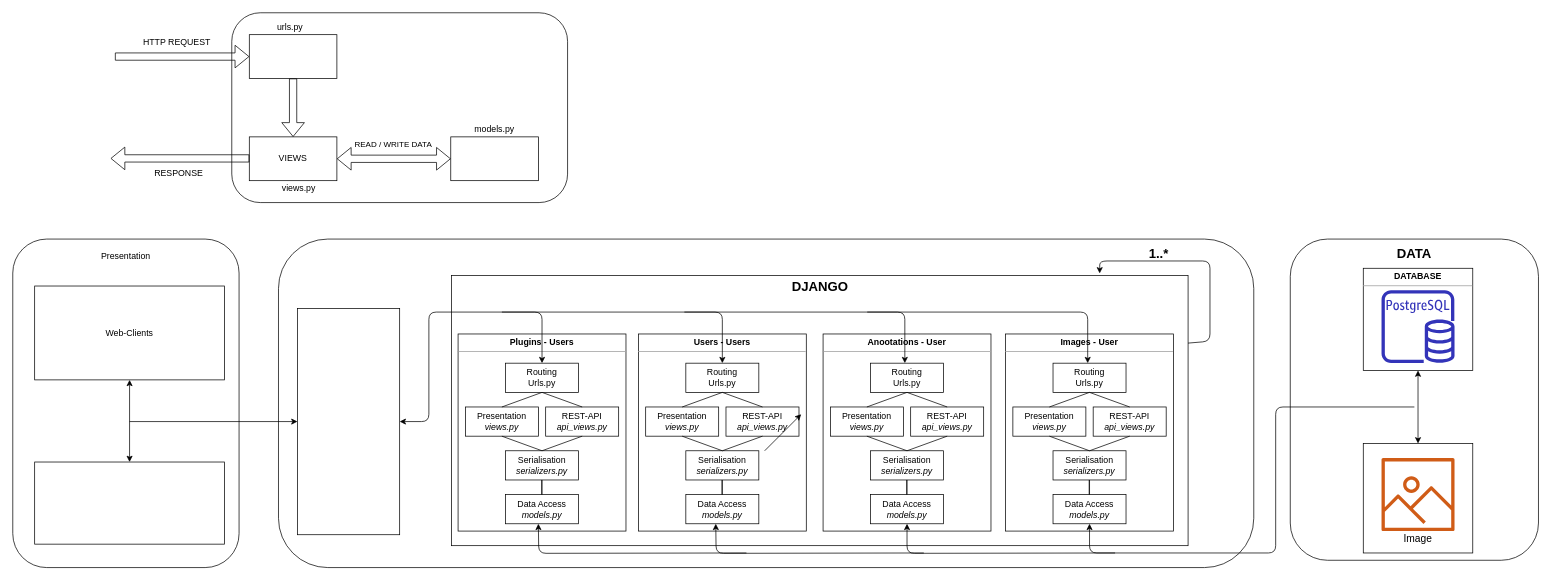
Image size: 1551x580. Some labels were removed from this diagram. The shapes that lost their labels are listed below. From the top down, each one's centre as x and y in pixels, then its label:
At point 293,56: "URL Patterns".
At point 494,158: "MODELS".
At point 348,421: "NGINX reverse proxy and load balancing".
At point 129,502: "REST-API-Clients".
